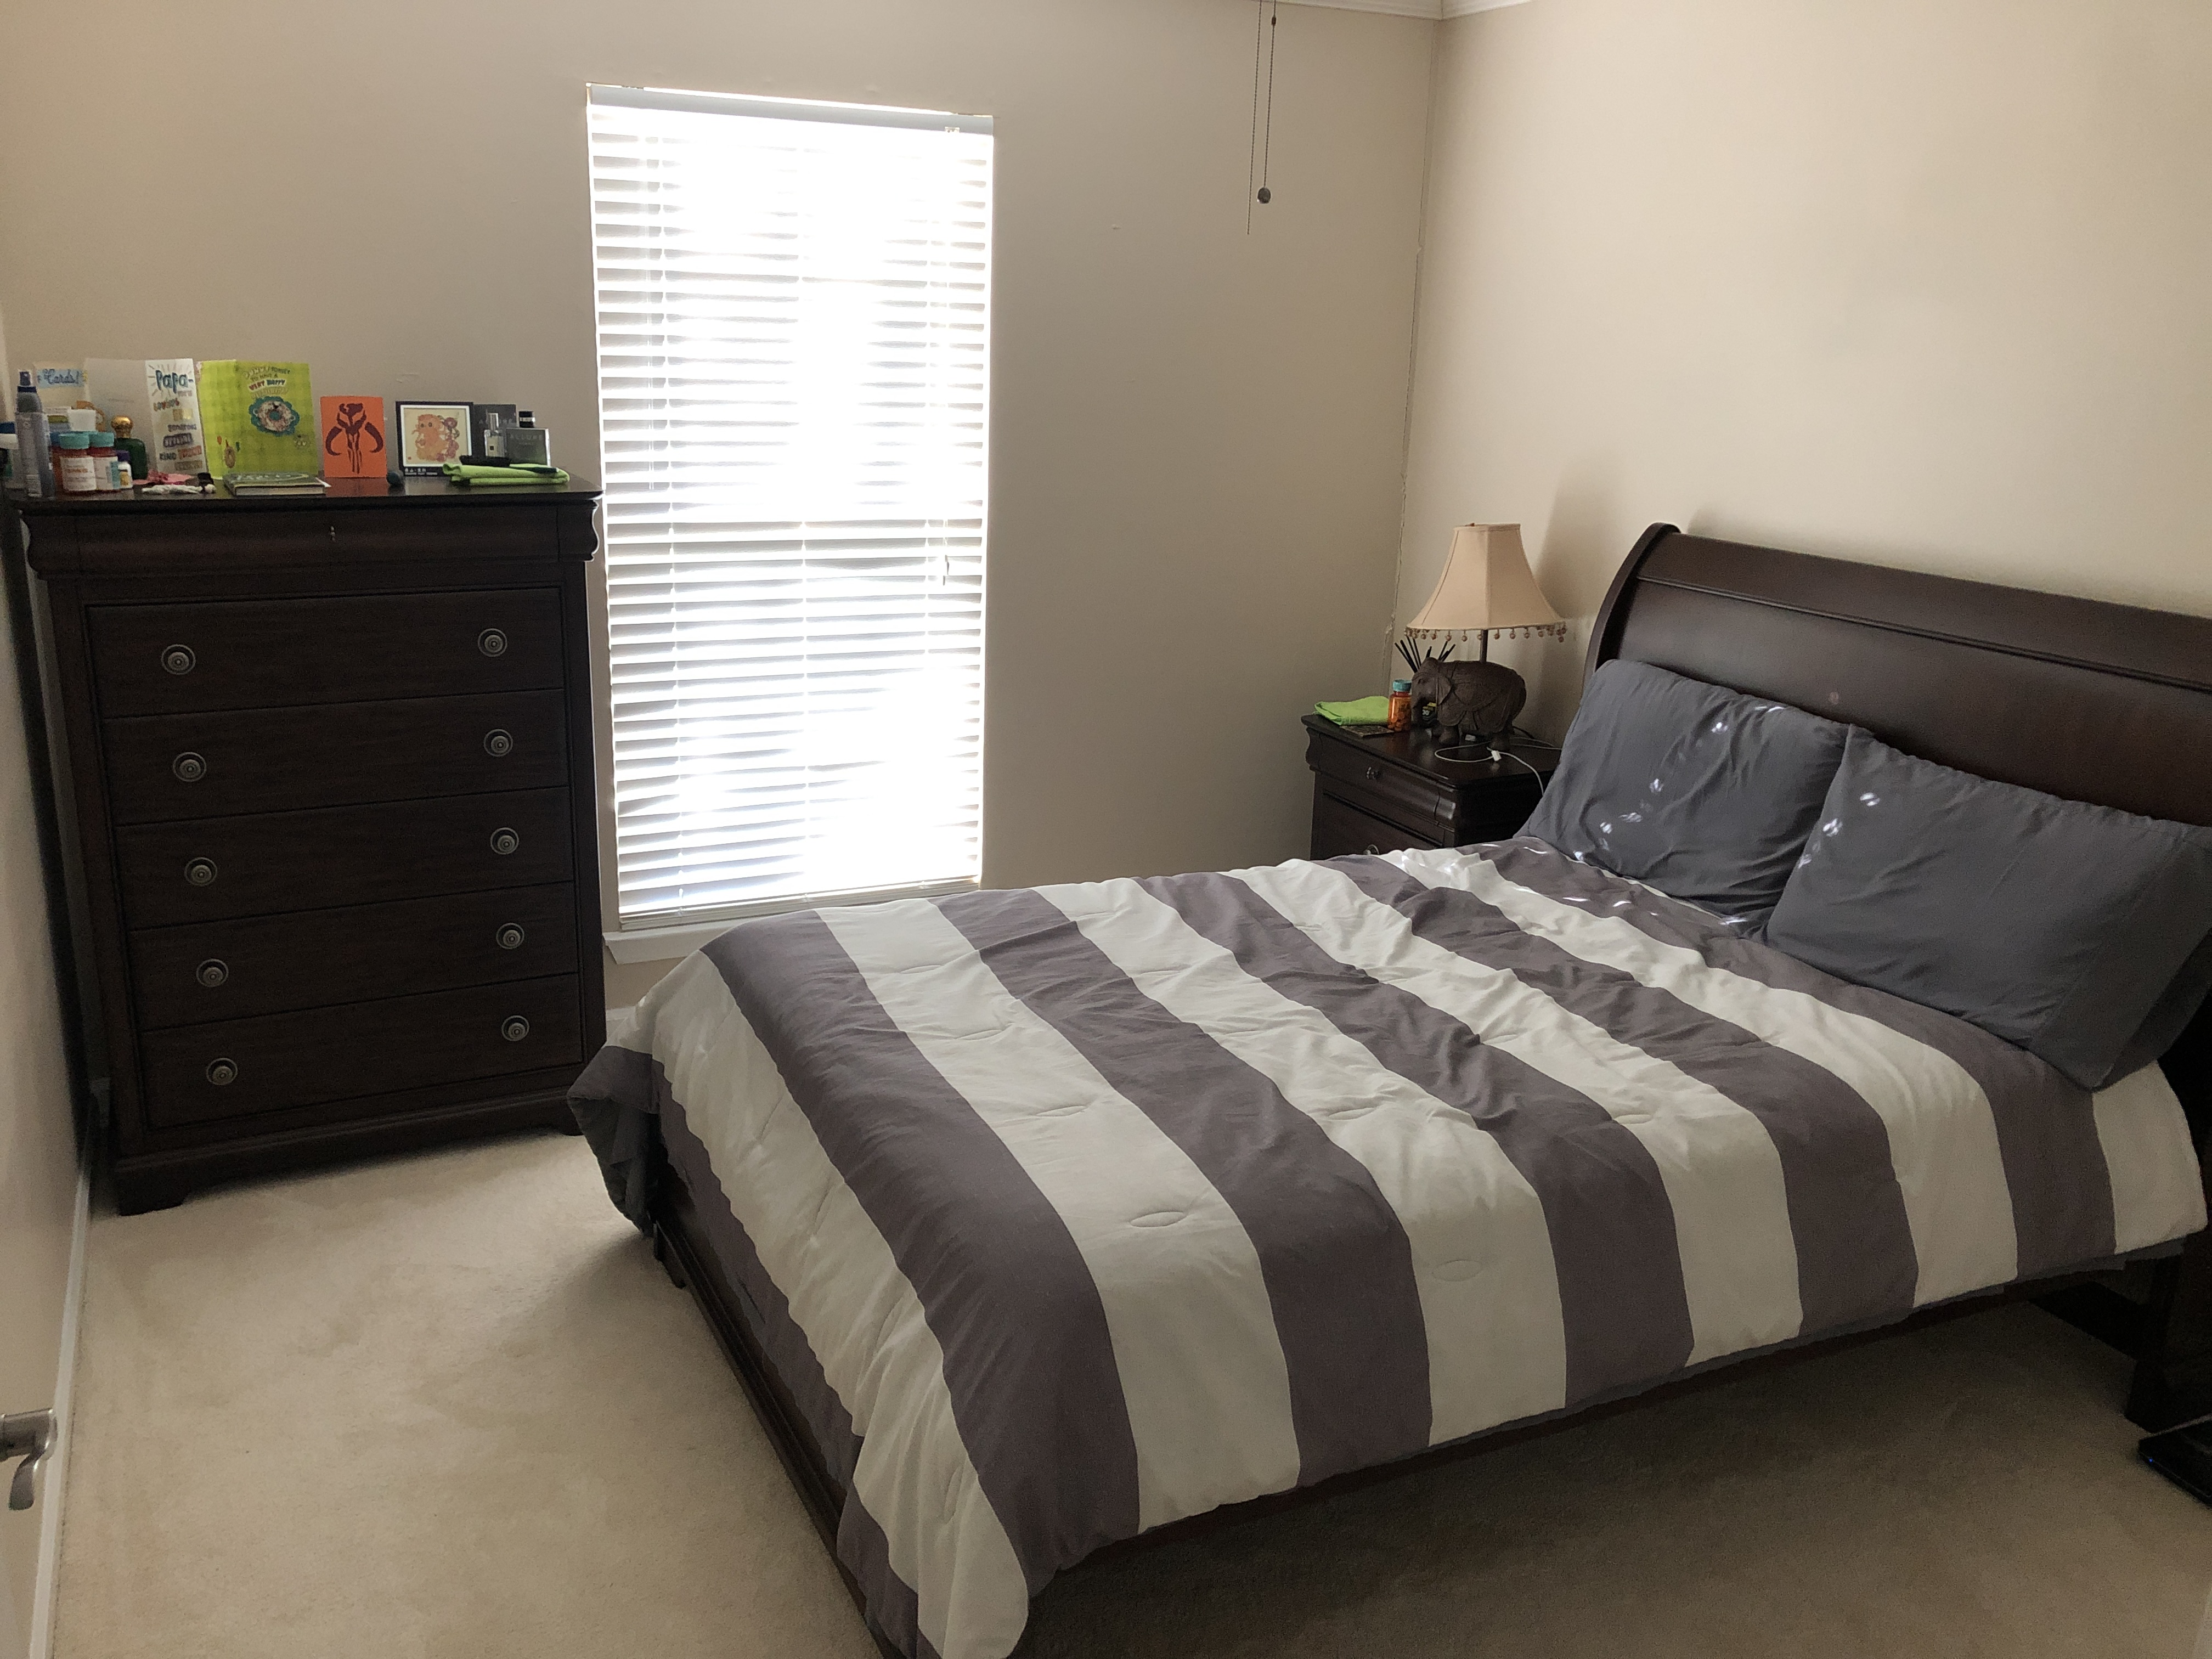dresser: (7, 479, 613, 1223)
lamp: (1420, 521, 1564, 777)
